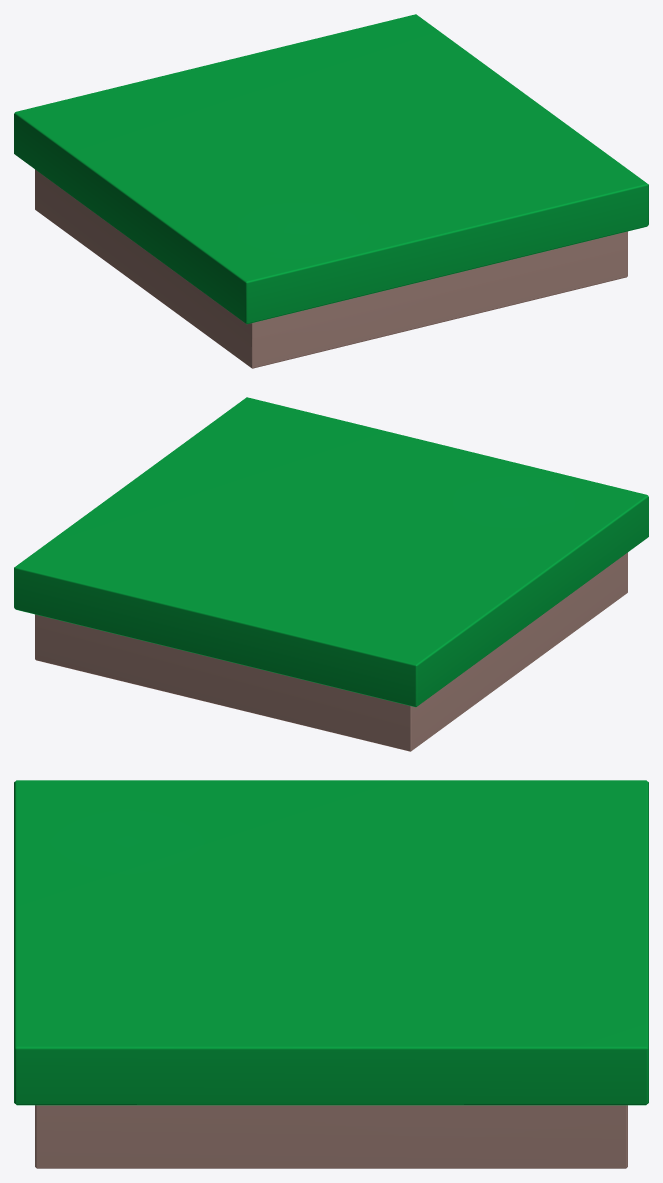
Rendered from Farm_3_Base_1.glb.
3 views of the same model, one above another, from view 1: azimuth 30°, elevation 25°; view 2: azimuth 150°, elevation 25°; view 3: azimuth 270°, elevation 25° (orthographic). The views are drawn at different scales.
Visible parts, largest first — view 1: Farm_3_Base_1; view 2: Farm_3_Base_1; view 3: Farm_3_Base_1.
Boxes of the visible parts, left/top/right/bottom form: Farm_3_Base_1: left=14, top=14, right=648, bottom=368; Farm_3_Base_1: left=14, top=397, right=648, bottom=751; Farm_3_Base_1: left=14, top=780, right=648, bottom=1168.
Size of the model in its own units: 11.2 by 2.55 by 11.2.
1 material, 1 textured.
